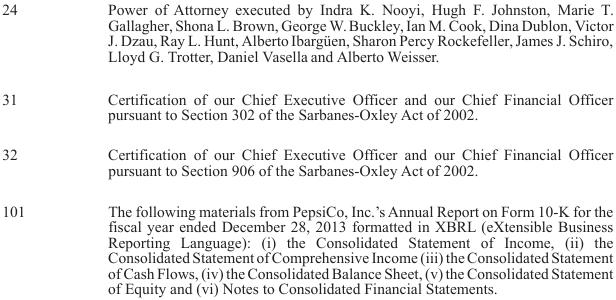table: (1, 0, 612, 296)
table column: (65, 0, 612, 296), (1, 0, 65, 296)
table row: (1, 190, 612, 296), (1, 0, 612, 76), (1, 76, 612, 133), (1, 133, 612, 190)
